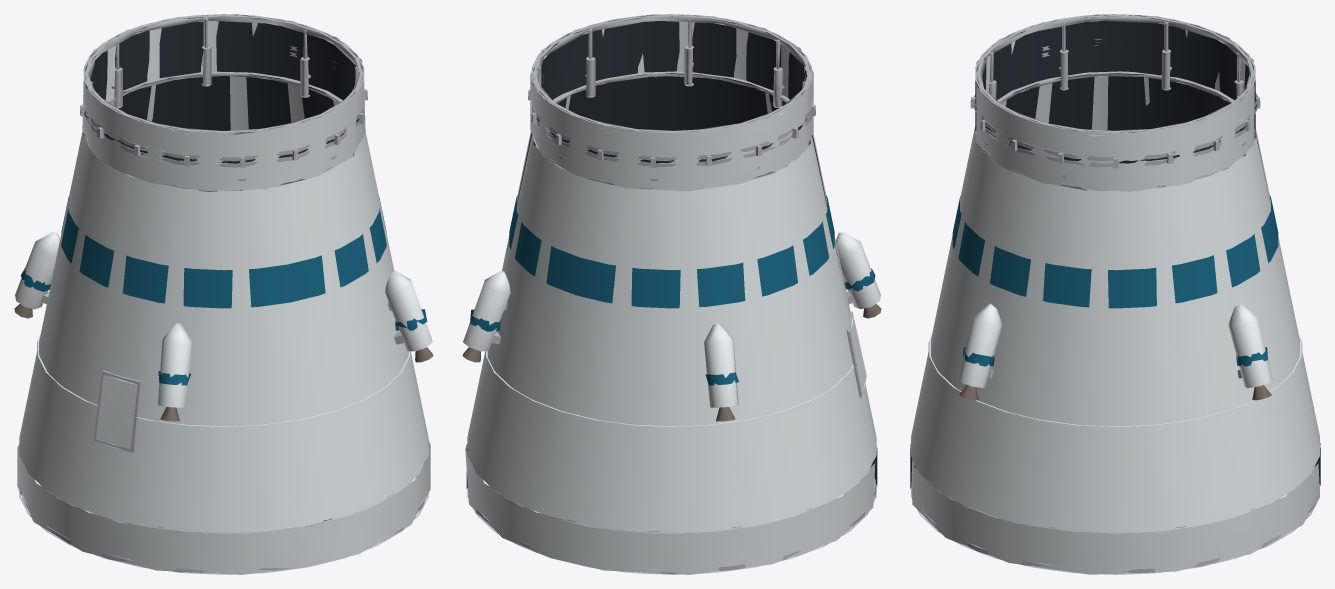
Rendered from interstage_pyro_d54_to_d37.glb.
The picture shows the model from 3 angles, left to right: view 1: azimuth 30°, elevation 25°; view 2: azimuth 150°, elevation 25°; view 3: azimuth 270°, elevation 25°; orthographic projection.
Parts seen in each view (by area): view 1: interstage_pyro_d54_to_d37_mesh; view 2: interstage_pyro_d54_to_d37_mesh; view 3: interstage_pyro_d54_to_d37_mesh.
Boxes of the visible parts, <box> form: interstage_pyro_d54_to_d37_mesh: <box>14,14,433,574</box>; interstage_pyro_d54_to_d37_mesh: <box>462,14,881,574</box>; interstage_pyro_d54_to_d37_mesh: <box>910,14,1320,574</box>.
Size of the model in its own units: 5.4 by 6 by 5.39.
